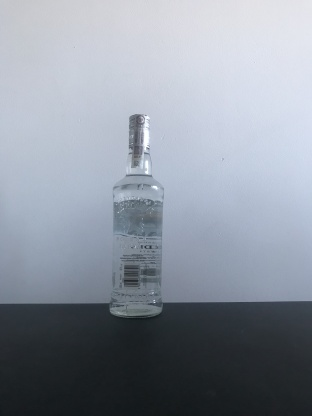nakretka: (125, 110, 152, 151)
